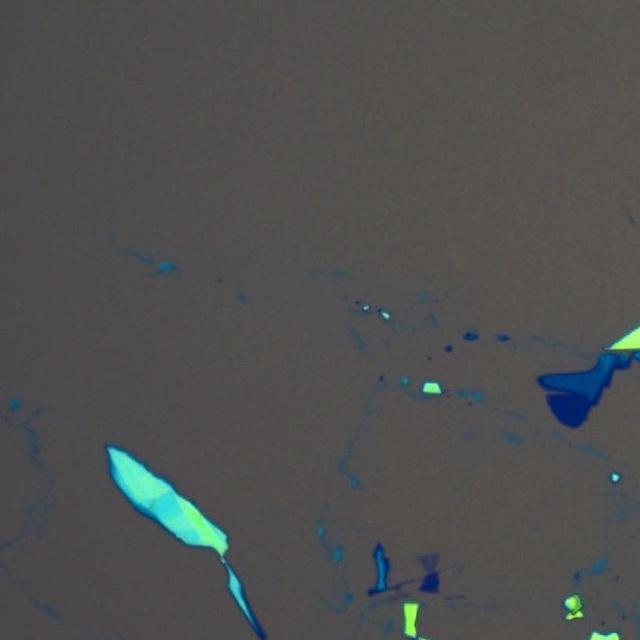monolayer-eWW4: (418, 549, 440, 574)
